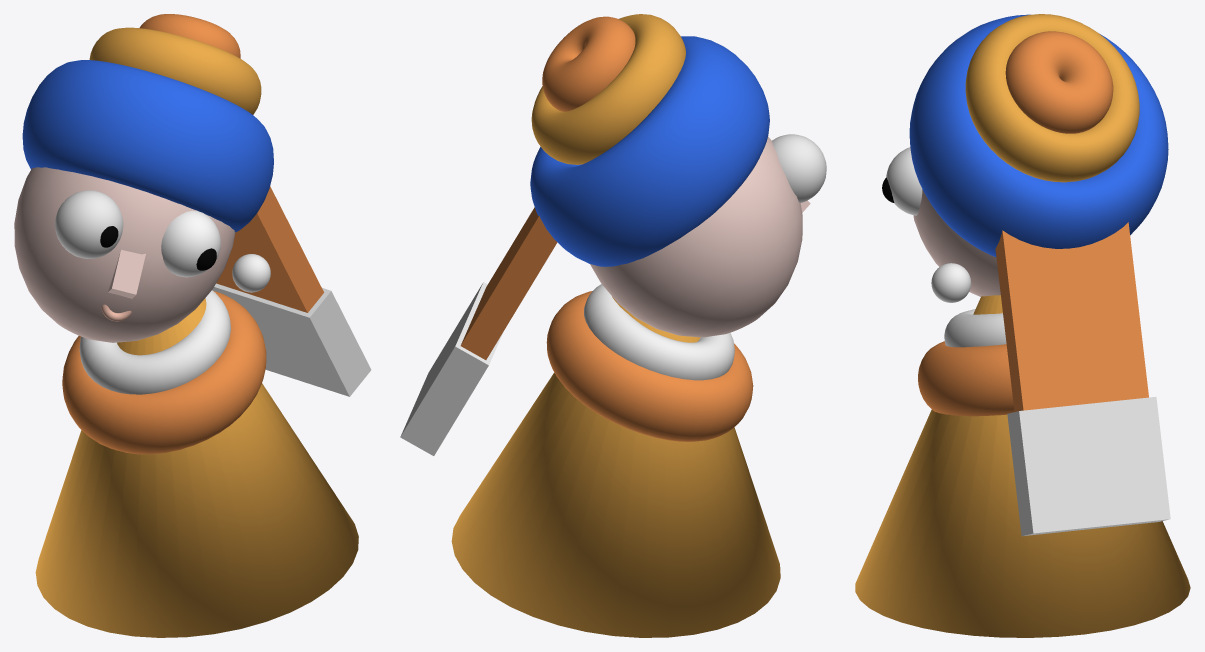
File: girl-earrings.glb
3 views of the same model, side by side, from view 1: azimuth 30°, elevation 25°; view 2: azimuth 150°, elevation 25°; view 3: azimuth 270°, elevation 25° (orthographic). The views are drawn at different scales.
Visible parts, largest first — view 1: 锥体, 环体, 球体, 环体.003, 立方体.002, 环体.001, 环体.004, 立方体.001, 球体.002, 球体.001, 环体.002, 立方体 (+1 smaller); view 2: 锥体, 环体, 球体, 环体.003, 环体.001, 环体.004, 环体.002, 立方体.002, 立方体.001, 球体.002; view 3: 锥体, 环体, 立方体.001, 立方体.002, 环体.001, 环体.002, 环体.003, 球体, 环体.004, 球体.001, 球体.005.
Part boxes in pixels (box(x1,y1,x2,y2)): 锥体: box(35, 298, 358, 637); 环体: box(22, 60, 273, 232); 球体: box(14, 167, 235, 342); 环体.003: box(62, 290, 266, 454); 立方体.002: box(212, 283, 371, 396); 环体.001: box(89, 27, 261, 114); 环体.004: box(79, 290, 230, 394); 立方体.001: box(216, 186, 323, 312); 球体.002: box(55, 190, 123, 258); 球体.001: box(161, 210, 220, 277); 环体.002: box(139, 14, 240, 58); 立方体: box(108, 250, 145, 298); 锥体: box(451, 296, 780, 637); 环体: box(530, 36, 769, 266); 球体: box(590, 136, 802, 337); 环体.003: box(546, 291, 753, 441); 环体.001: box(531, 14, 685, 164); 环体.004: box(584, 284, 734, 380); 环体.002: box(542, 16, 635, 111); 立方体.002: box(400, 282, 503, 455); 立方体.001: box(460, 207, 557, 359); 球体.002: box(772, 134, 826, 202); 锥体: box(855, 295, 1190, 637); 环体: box(909, 14, 1168, 256); 立方体.001: box(995, 222, 1148, 411); 立方体.002: box(1007, 397, 1170, 536); 环体.001: box(965, 14, 1139, 182); 环体.002: box(1005, 31, 1113, 133); 环体.003: box(918, 341, 1014, 416); 球体: box(913, 189, 1000, 296); 环体.004: box(944, 309, 1006, 347); 球体.001: box(886, 147, 922, 215); 球体.005: box(931, 263, 971, 302).
Bounding box in the file's own units: 3.64 × 5.5 × 2.93.
